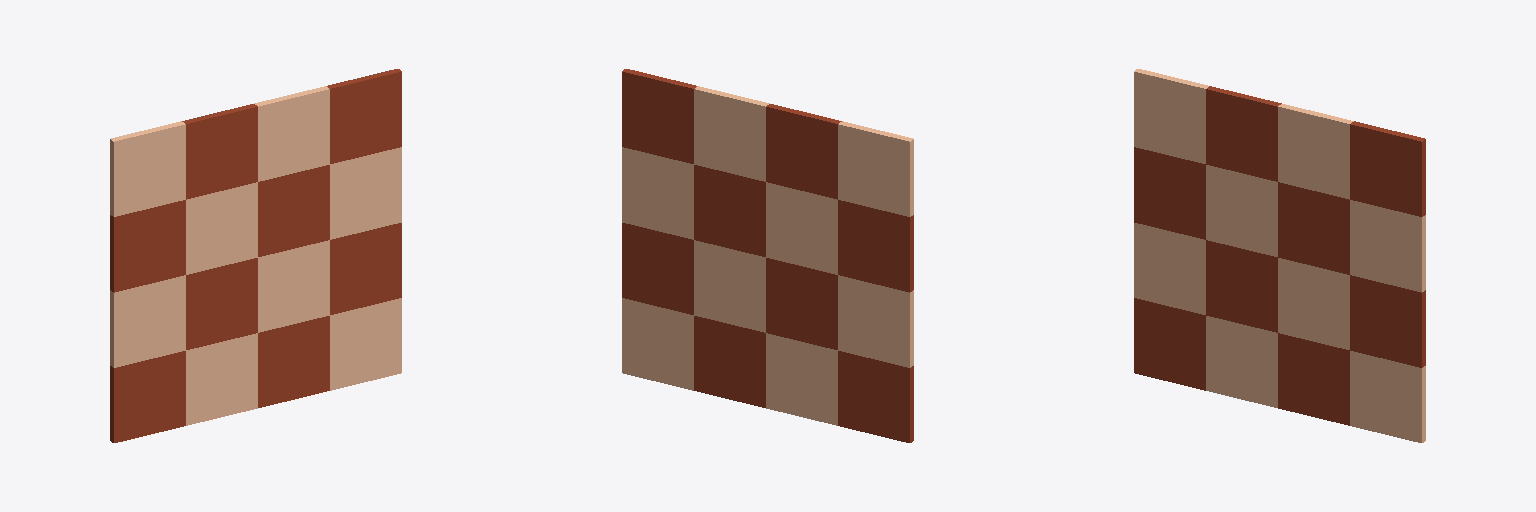
3 views of the same model, side by side, from view 1: azimuth 30°, elevation 25°; view 2: azimuth 150°, elevation 25°; view 3: azimuth 330°, elevation 25° (orthographic).
Visible parts, largest first — view 1: PongAssets-5; view 2: PongAssets-5; view 3: PongAssets-5.
Part boxes in pixels (bbox=[...]): PongAssets-5: bbox=[110, 69, 401, 442]; PongAssets-5: bbox=[622, 69, 913, 442]; PongAssets-5: bbox=[1134, 69, 1425, 442].
Bounding box in the file's own units: 40 × 40 × 1.
Materials: 1 (1 with a texture image).